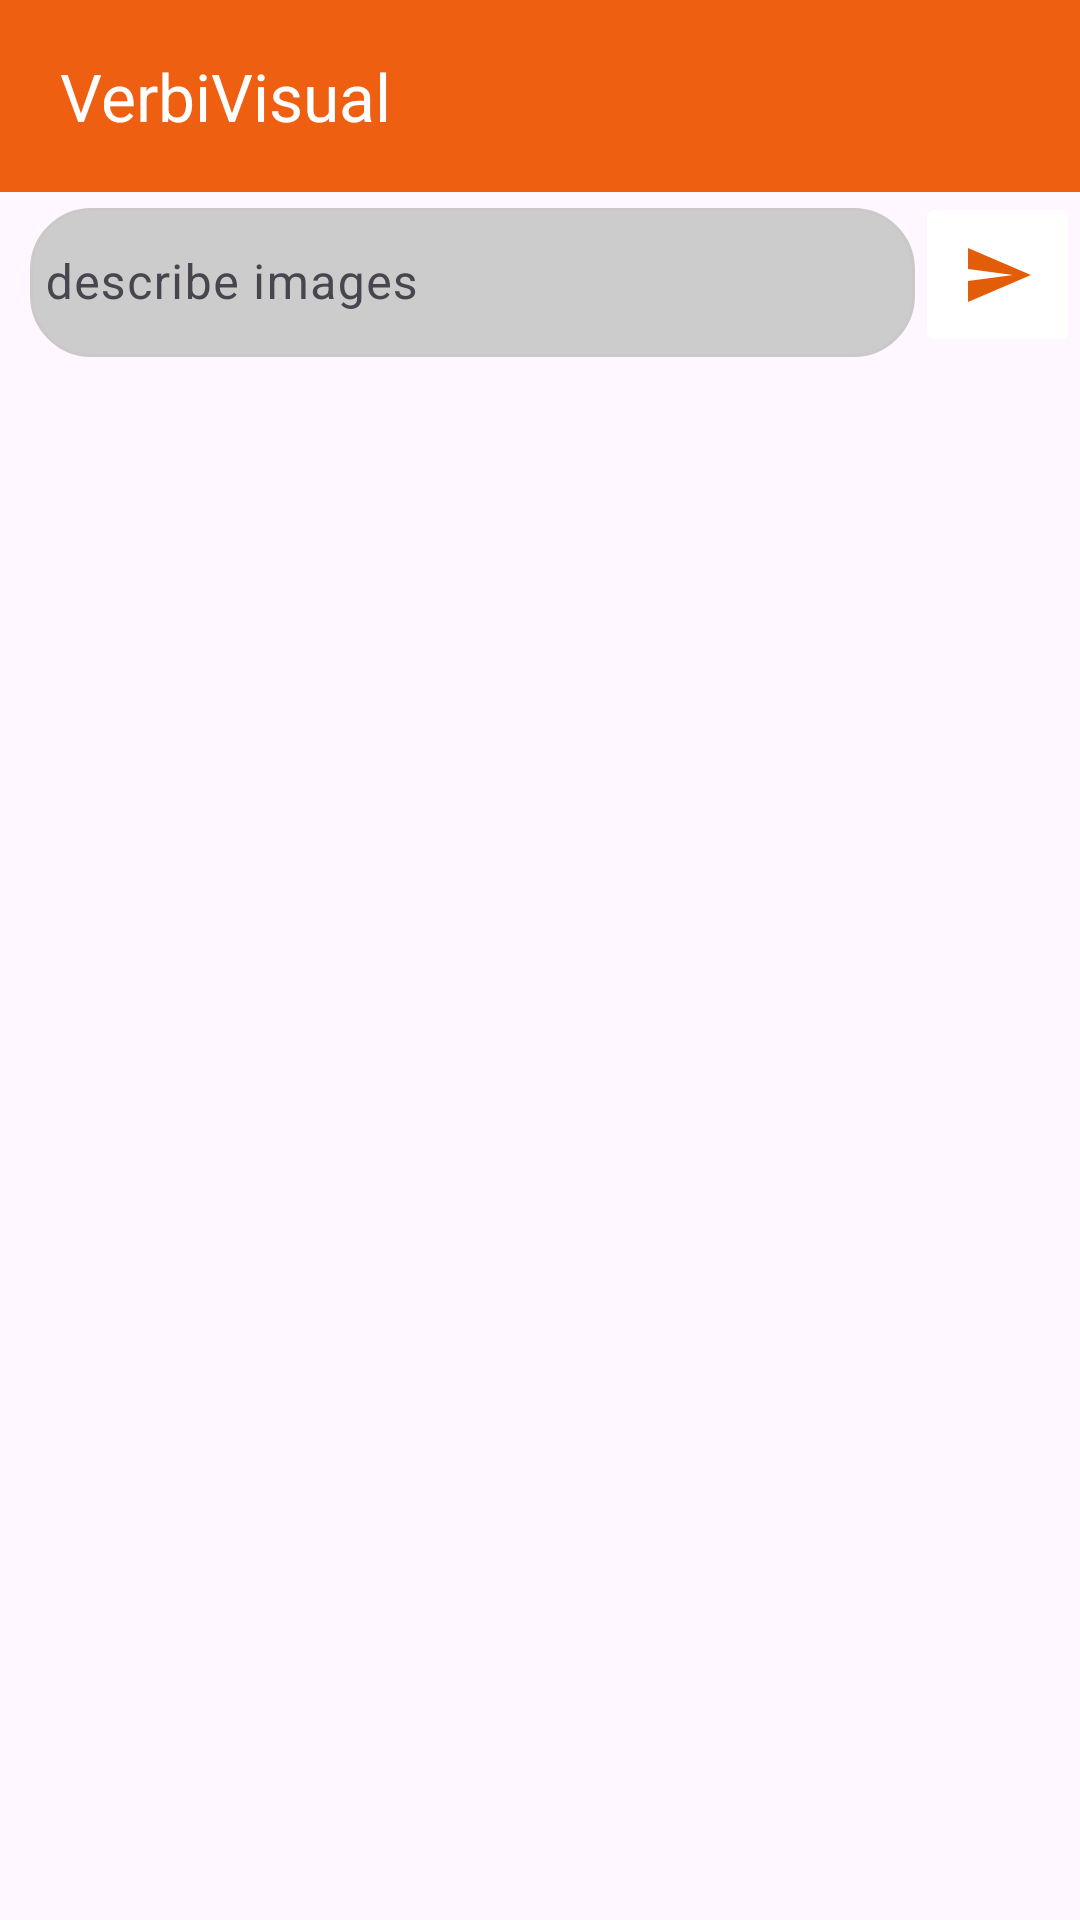

Named icons in this screenshot (1080w x 1920h) and their bounding boxes, (x1, y1, x2, y2):
send icon: (968, 248, 1031, 302)
